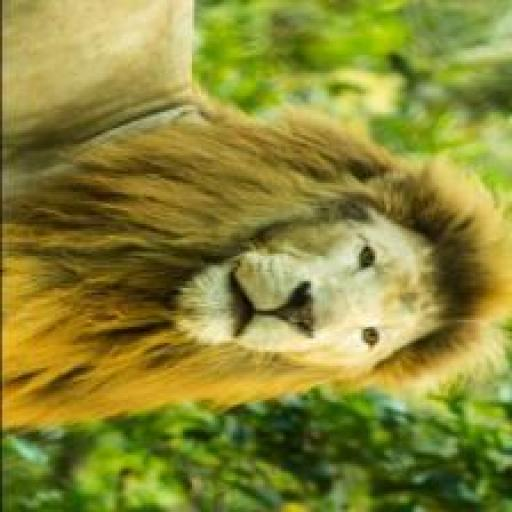lion: (2, 2, 510, 444)
